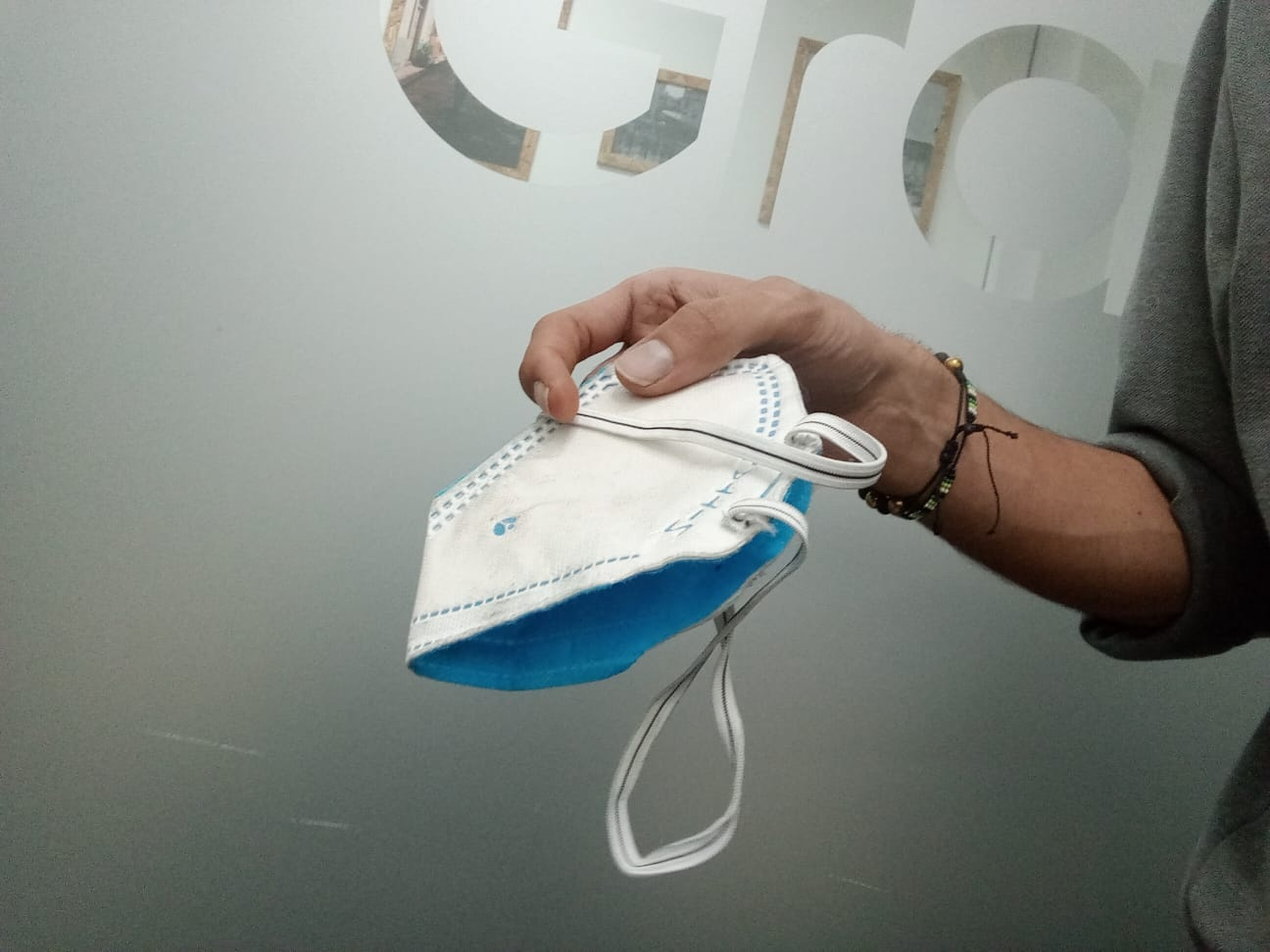Ordinario: (403, 353, 890, 879)
